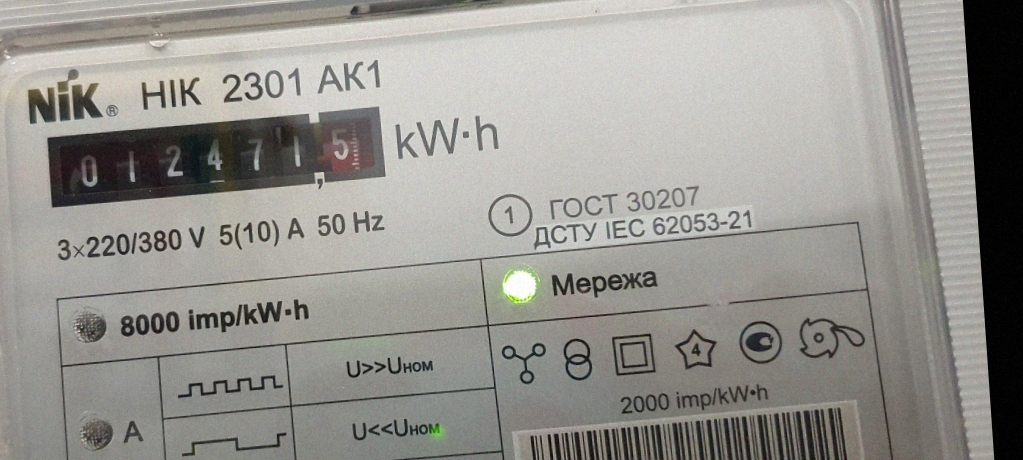0: (75, 151, 100, 189)
1: (124, 148, 138, 184), (289, 132, 302, 169)
2: (162, 142, 185, 179)
4: (203, 135, 224, 173)
5: (328, 123, 352, 162)
7: (242, 134, 266, 174)
screen: (34, 96, 398, 217)
